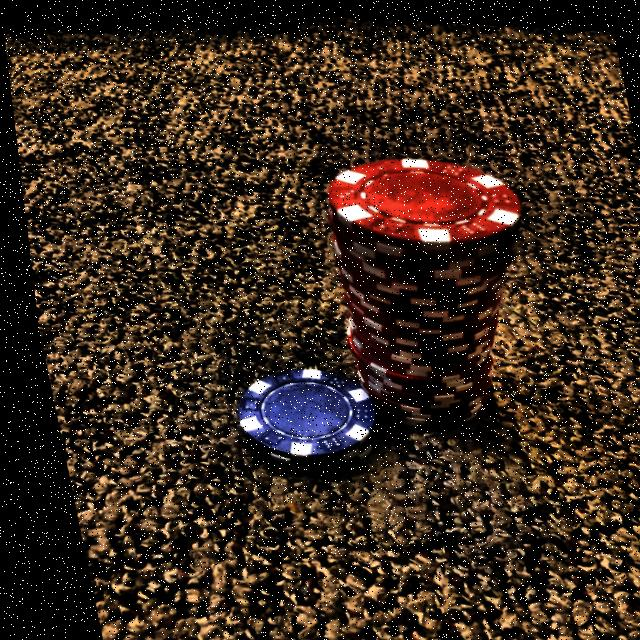Chip: (308, 138, 560, 438), (216, 354, 385, 480)
